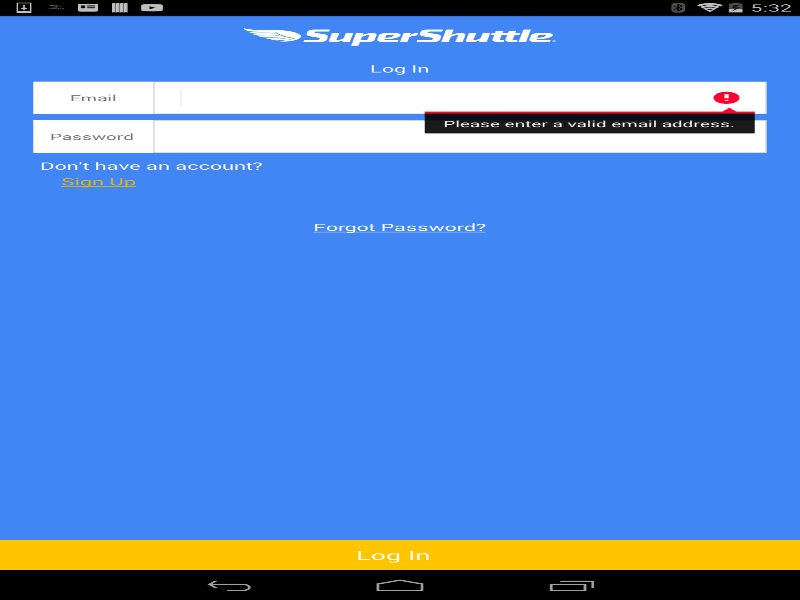Button: (40, 166, 157, 196)
Input: (180, 89, 740, 106)
